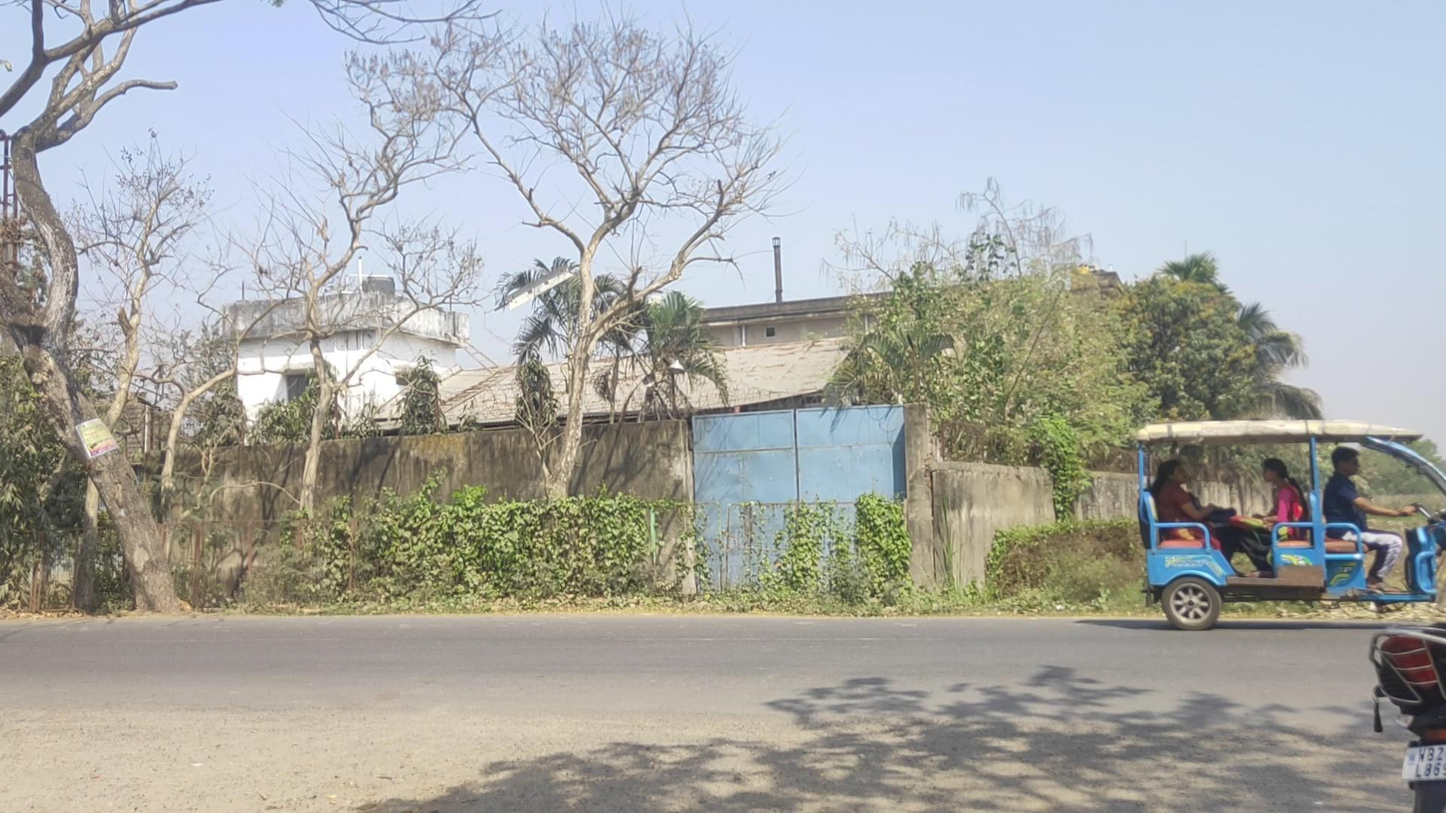Auto: (1135, 419, 1446, 631)
